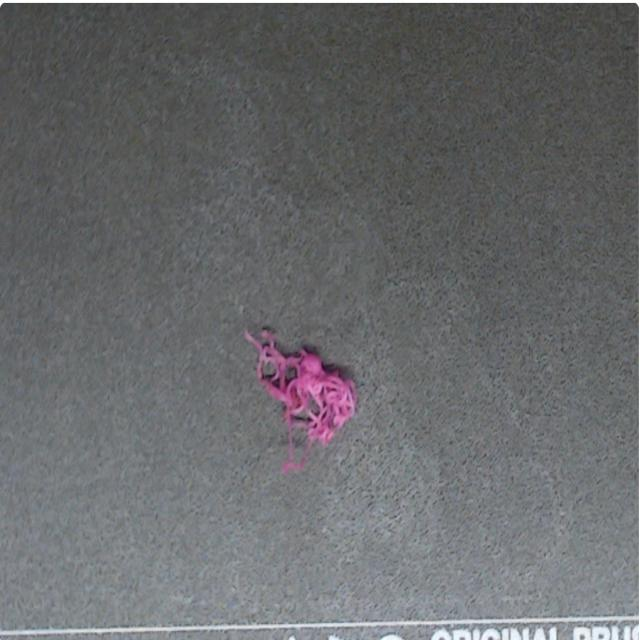mistake: (246, 330, 356, 473), (431, 626, 557, 639), (573, 626, 636, 639)
